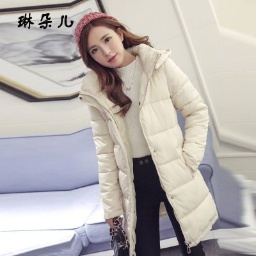face: (74, 13, 145, 76)
